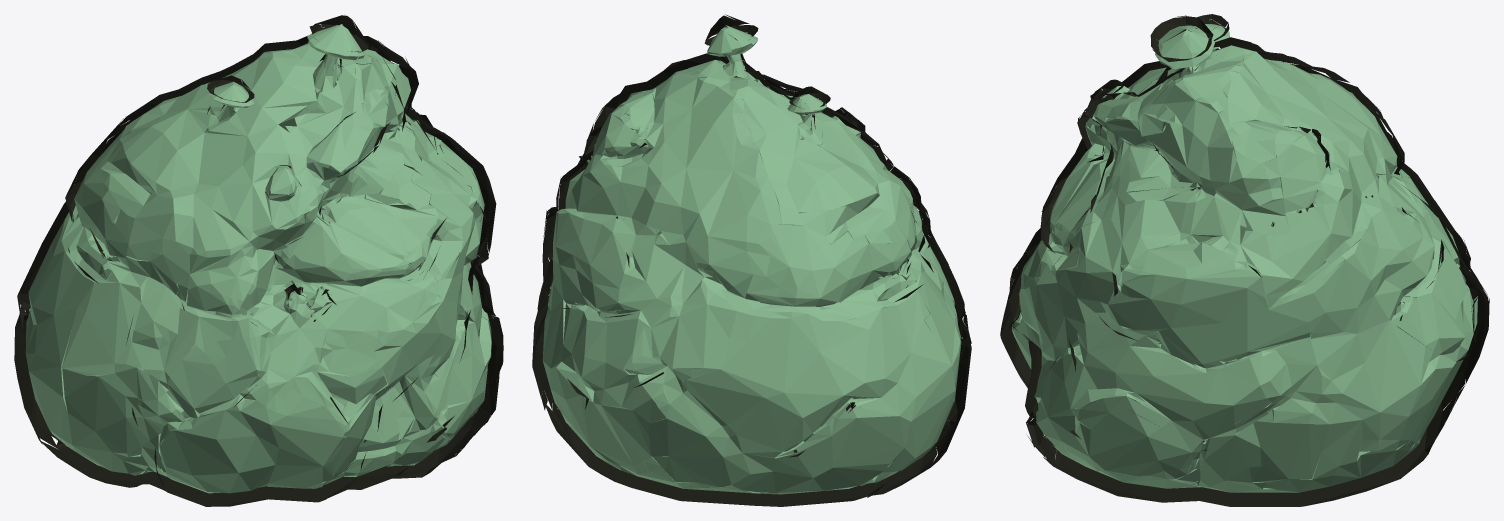
The model's file is df_v2_rock_moss_cluster_e_a.glb.
3 views of the same model, side by side, from view 1: azimuth 30°, elevation 25°; view 2: azimuth 150°, elevation 25°; view 3: azimuth 270°, elevation 25° (orthographic). The views are drawn at different scales.
Visible parts, largest first — view 1: rock_moss_cluster_e_mesh_01, rock_moss_cluster_e_mesh_01_ink_outline; view 2: rock_moss_cluster_e_mesh_01, rock_moss_cluster_e_mesh_01_ink_outline; view 3: rock_moss_cluster_e_mesh_01, rock_moss_cluster_e_mesh_01_ink_outline.
Part boxes in pixels (x1=…): rock_moss_cluster_e_mesh_01: x1=25, y1=24, x2=491, y2=493; rock_moss_cluster_e_mesh_01_ink_outline: x1=14, y1=15, x2=503, y2=506; rock_moss_cluster_e_mesh_01: x1=542, y1=25, x2=961, y2=494; rock_moss_cluster_e_mesh_01_ink_outline: x1=532, y1=14, x2=971, y2=506; rock_moss_cluster_e_mesh_01: x1=1012, y1=24, x2=1477, y2=492; rock_moss_cluster_e_mesh_01_ink_outline: x1=1000, y1=14, x2=1489, y2=506.
Size of the model in its own units: 0.8427 by 0.7956 by 0.8043.
